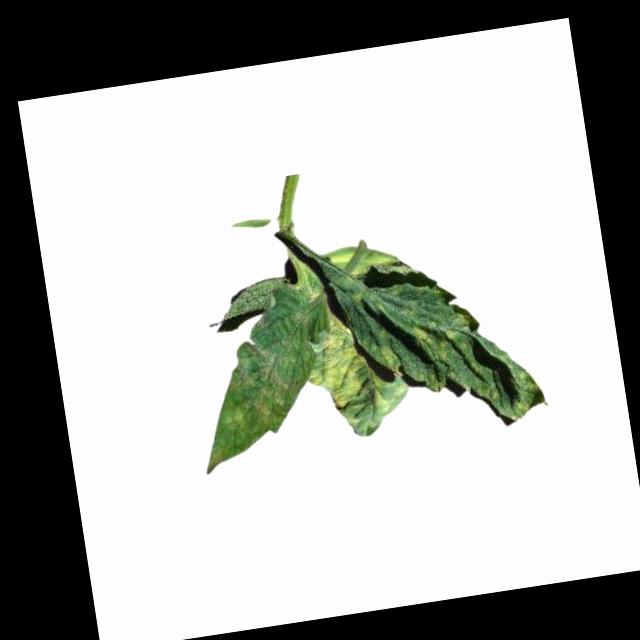Leaf_Mold: (185, 310, 316, 474), (400, 294, 548, 435), (293, 292, 410, 427)
